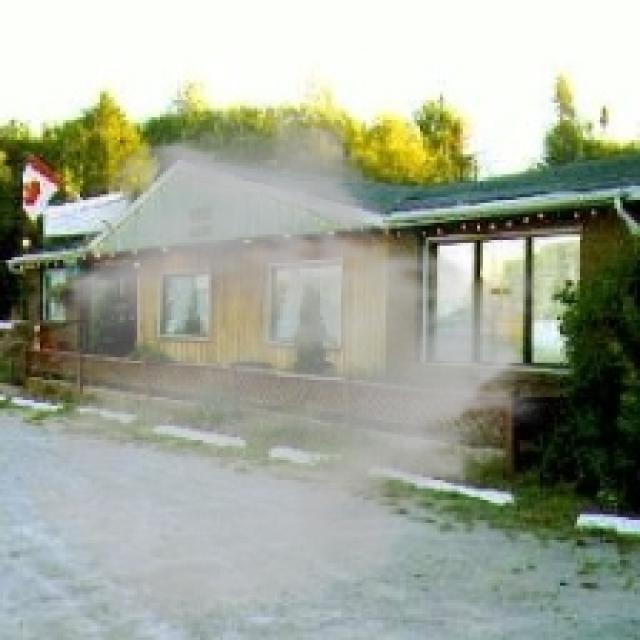smoke: (14, 100, 557, 634)
